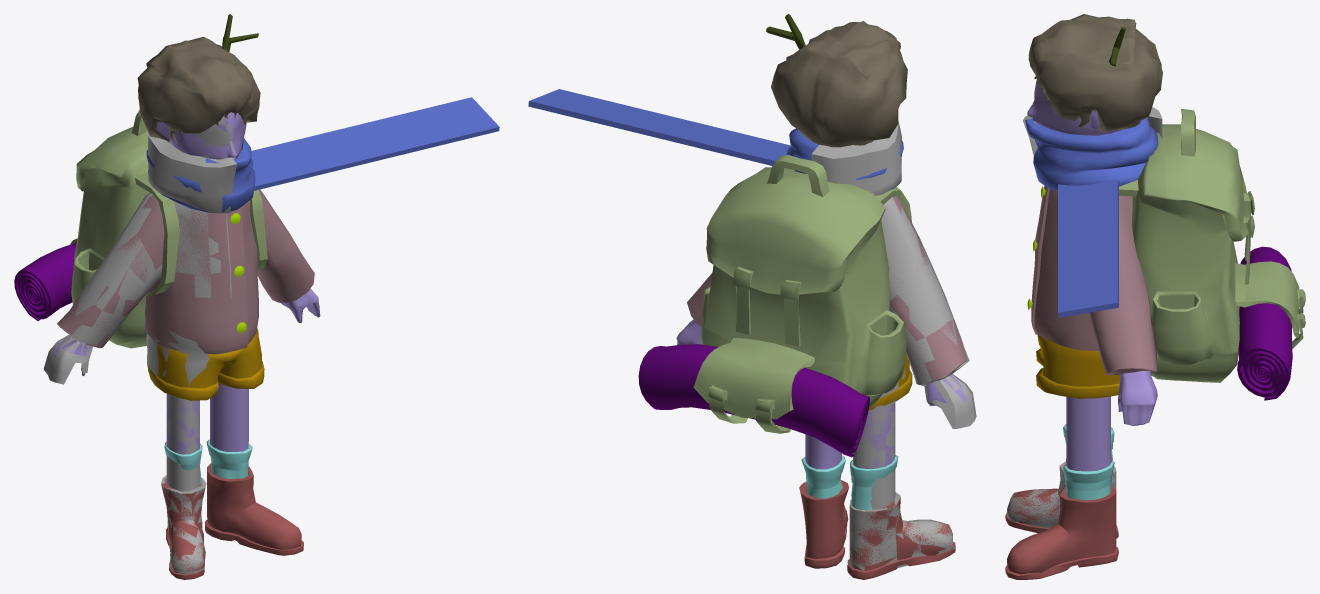
File: ArnionFBX.fbx
The picture shows the model from 3 angles, left to right: view 1: azimuth 30°, elevation 25°; view 2: azimuth 150°, elevation 25°; view 3: azimuth 270°, elevation 25°; orthographic projection. The views are drawn at different scales.
Visible parts, largest first — view 1: Bod, polySurface13, Bag_Model, Scarf_Animated, Hair1, Blanket_Rollup; view 2: Bag_Model, polySurface13, Bod, Hair1, Blanket_Rollup, Scarf_Animated; view 3: Bod, Bag_Model, Hair1, Scarf_Animated, Blanket_Rollup, polySurface13.
Part boxes in pixels (x1,y1,x2,y2): Bod: (53,112,320,579); polySurface13: (43,113,236,574); Bag_Model: (70,109,267,348); Scarf_Animated: (251,97,499,190); Hair1: (137,37,260,142); Blanket_Rollup: (14,242,76,320); Bag_Model: (693,155,911,433); polySurface13: (811,121,976,570); Bod: (676,128,968,579); Hair1: (771,21,907,147); Blanket_Rollup: (638,344,869,457); Scarf_Animated: (528,89,791,165); Bod: (1005,79,1158,579); Bag_Model: (1119,109,1305,382); Hair1: (1028,14,1162,131); Scarf_Animated: (1058,179,1118,317); Blanket_Rollup: (1237,246,1292,400); polySurface13: (1007,107,1162,527).
Size of the model in its own units: 69.07 by 80.49 by 40.52.
